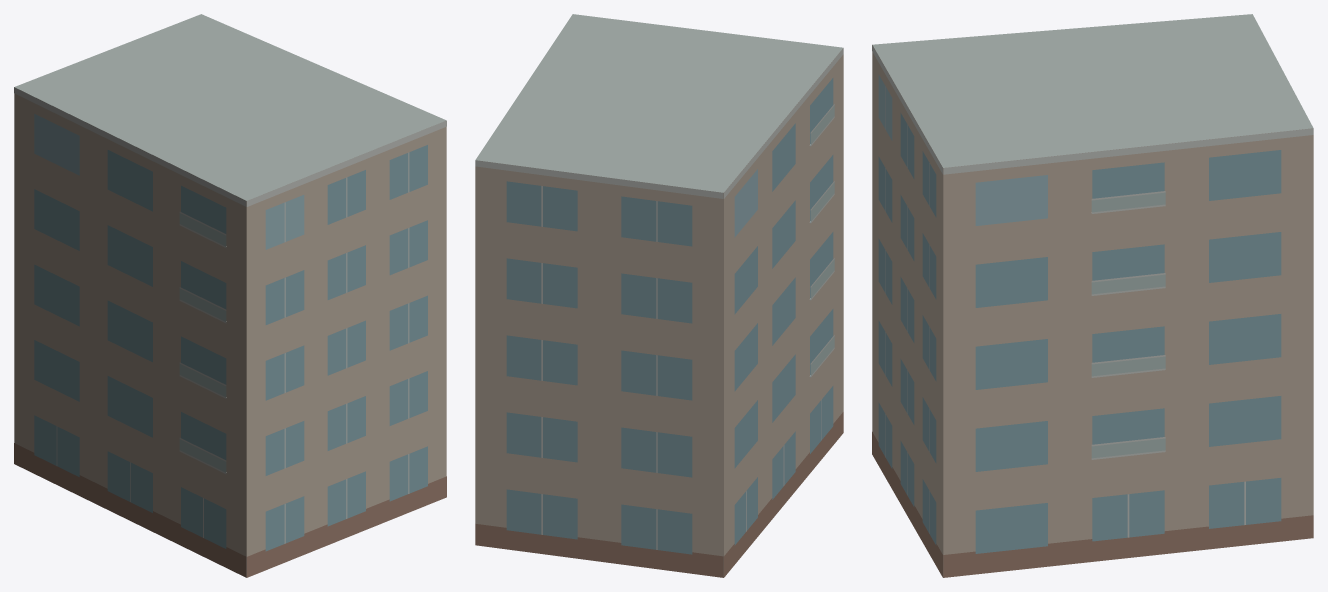
The model's file is survey-upis-32748011.glb.
3 renders of one model, left to right at view 1: azimuth 30°, elevation 25°; view 2: azimuth 150°, elevation 25°; view 3: azimuth 270°, elevation 25°, orthographic. The views are drawn at different scales.
Parts seen in each view (by area): view 1: survey-upis-32748011.tmp; view 2: survey-upis-32748011.tmp; view 3: survey-upis-32748011.tmp.
Boxes of the visible parts, left/top/right/bottom form: survey-upis-32748011.tmp: left=14, top=14, right=446, bottom=577; survey-upis-32748011.tmp: left=475, top=14, right=843, bottom=577; survey-upis-32748011.tmp: left=872, top=14, right=1313, bottom=577.
Bounding box in the file's own units: 12.02 × 14.9 × 14.55.
